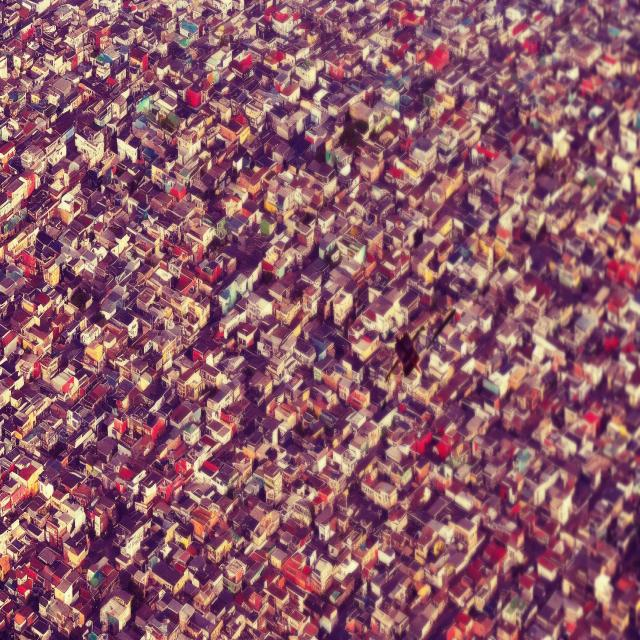airplane: (385, 308, 457, 382)
